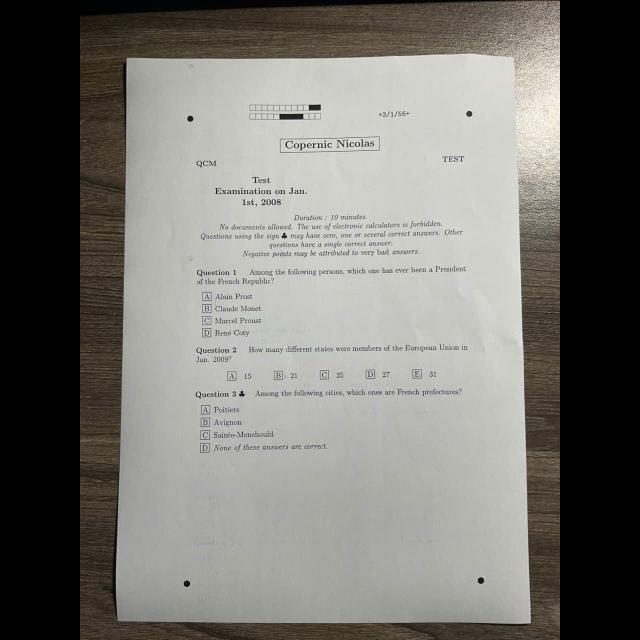Markers: (183, 580, 190, 588), (187, 116, 193, 122), (466, 111, 472, 117), (478, 578, 484, 584)
